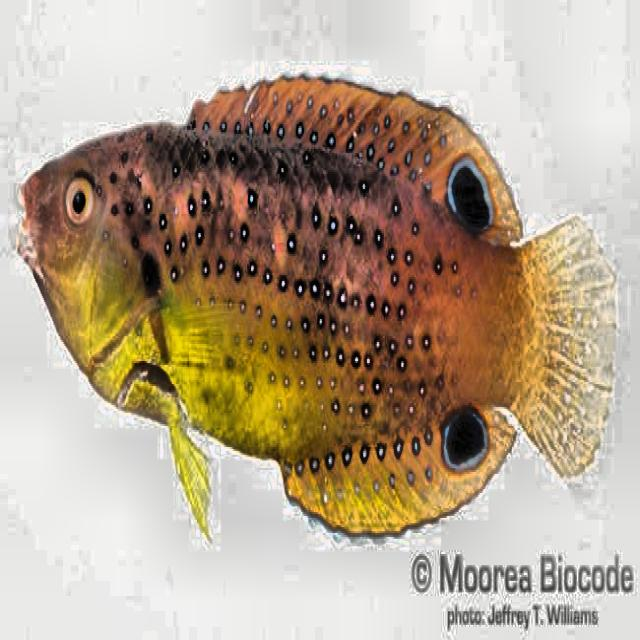fish: (14, 70, 618, 548)
